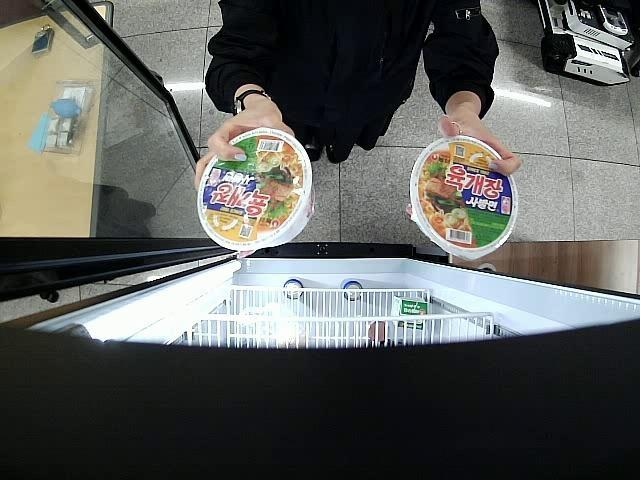09_yukGaeJang: (197, 126, 316, 252), (411, 136, 518, 256)
